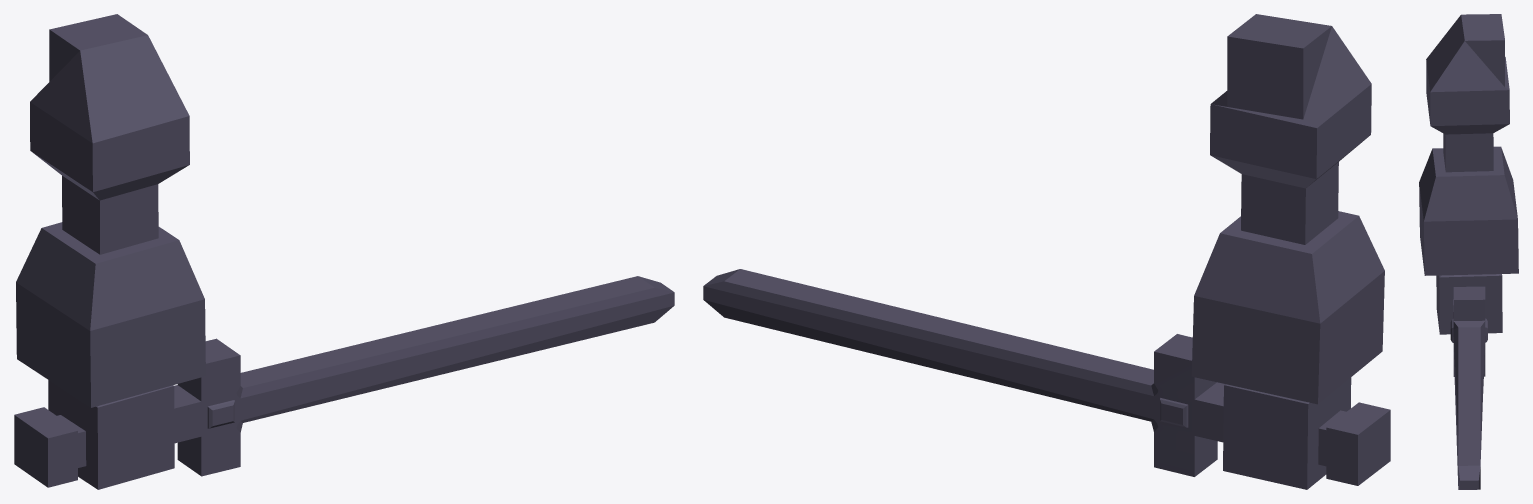
Rendered from Robo-KnightRightHand.fbx.
3 views of the same model, side by side, from view 1: azimuth 30°, elevation 25°; view 2: azimuth 150°, elevation 25°; view 3: azimuth 270°, elevation 25° (orthographic). The views are drawn at different scales.
Visible parts, largest first — view 1: polySurface515; view 2: polySurface515; view 3: polySurface515.
Boxes of the visible parts, x1,y1,x2,y2 form: polySurface515: (14, 14, 674, 489); polySurface515: (703, 14, 1390, 489); polySurface515: (1419, 14, 1518, 489).
Size of the model in its own units: 302 by 203 by 59.14.
